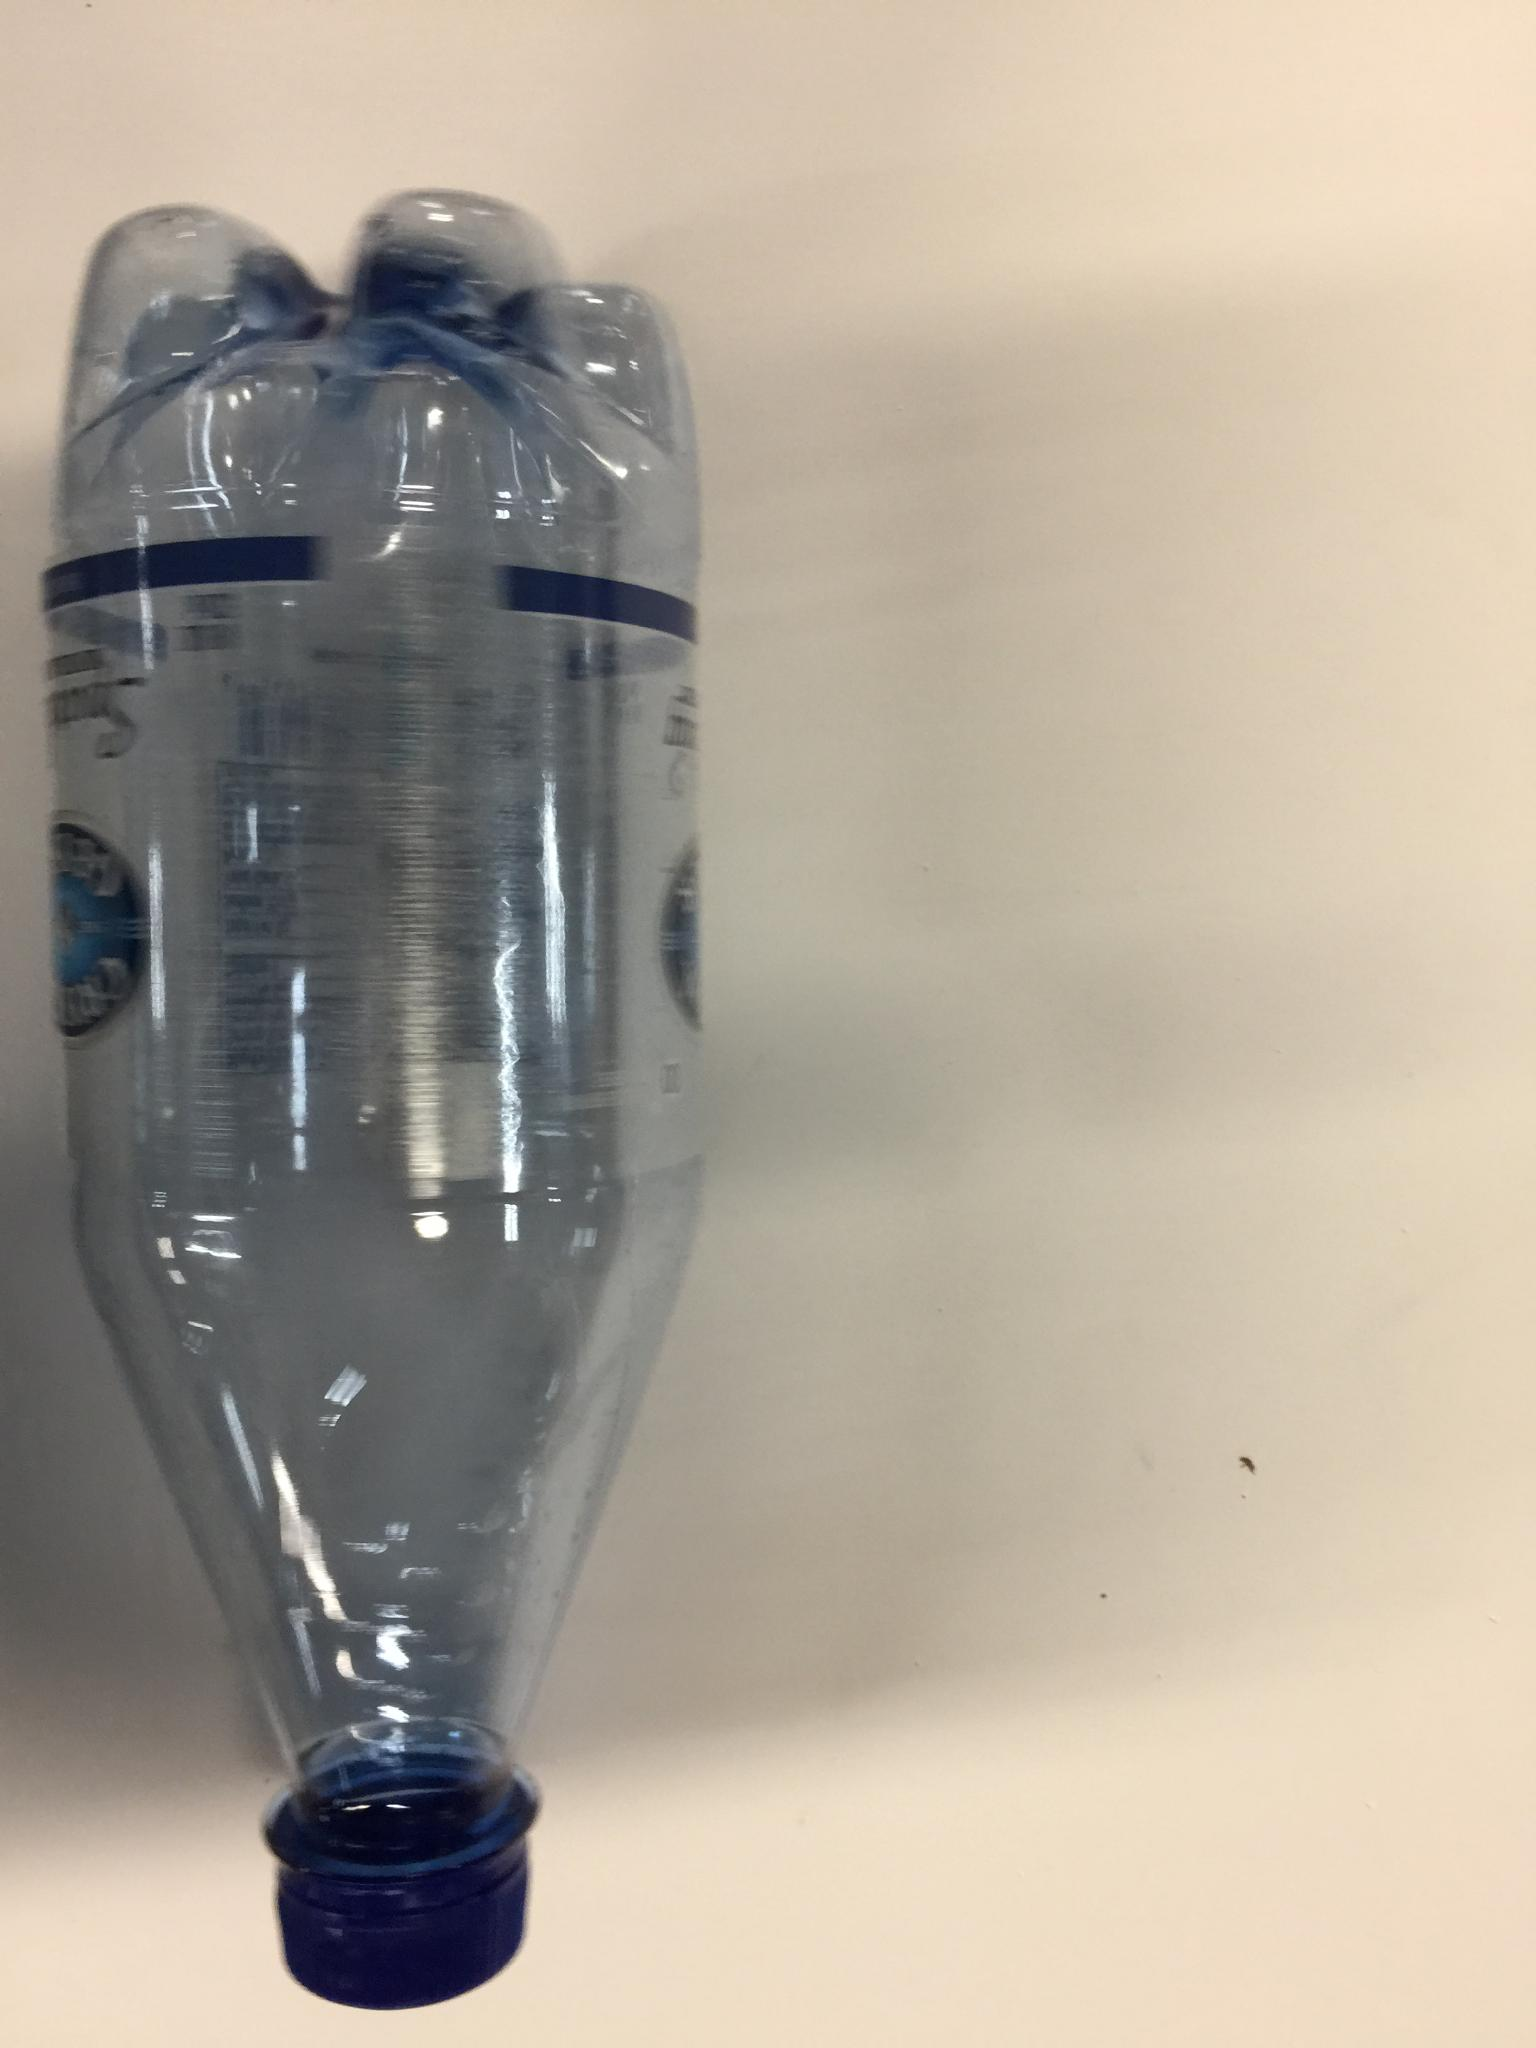Plastic: (11, 185, 733, 2017)
